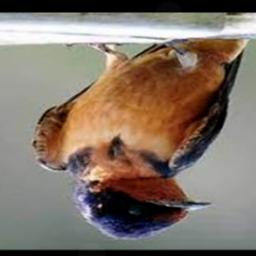Swallow: (30, 38, 248, 241)
